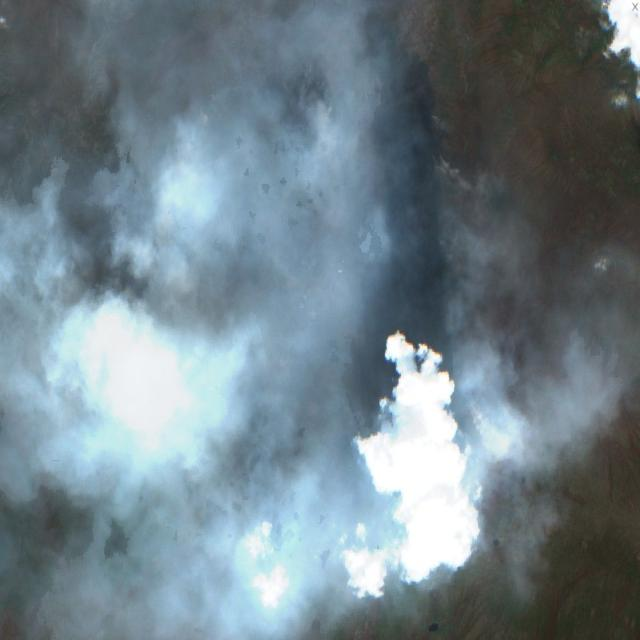fire: (81, 58, 478, 468)
